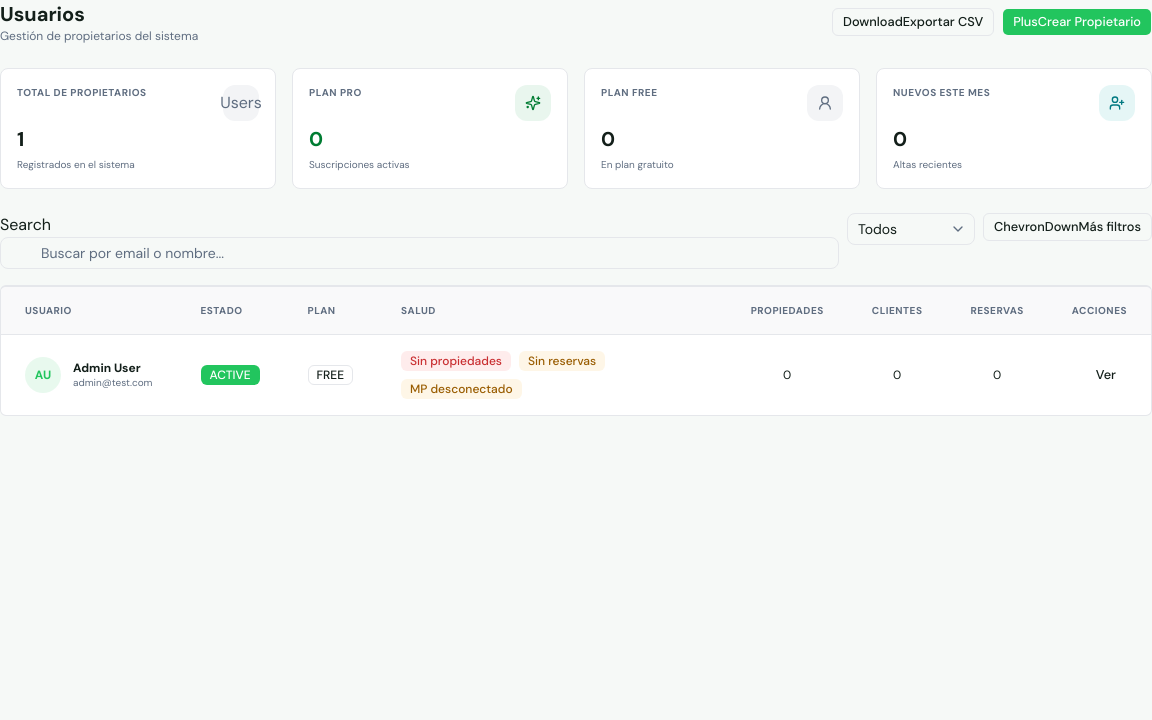
Test: AdminUsersClient › Crear propietario › el selector de plan muestra la etiqueta, no el enum
Click the button "Crear Propietario": x=1077, y=22 left=1002, top=8, right=1151, bottom=36
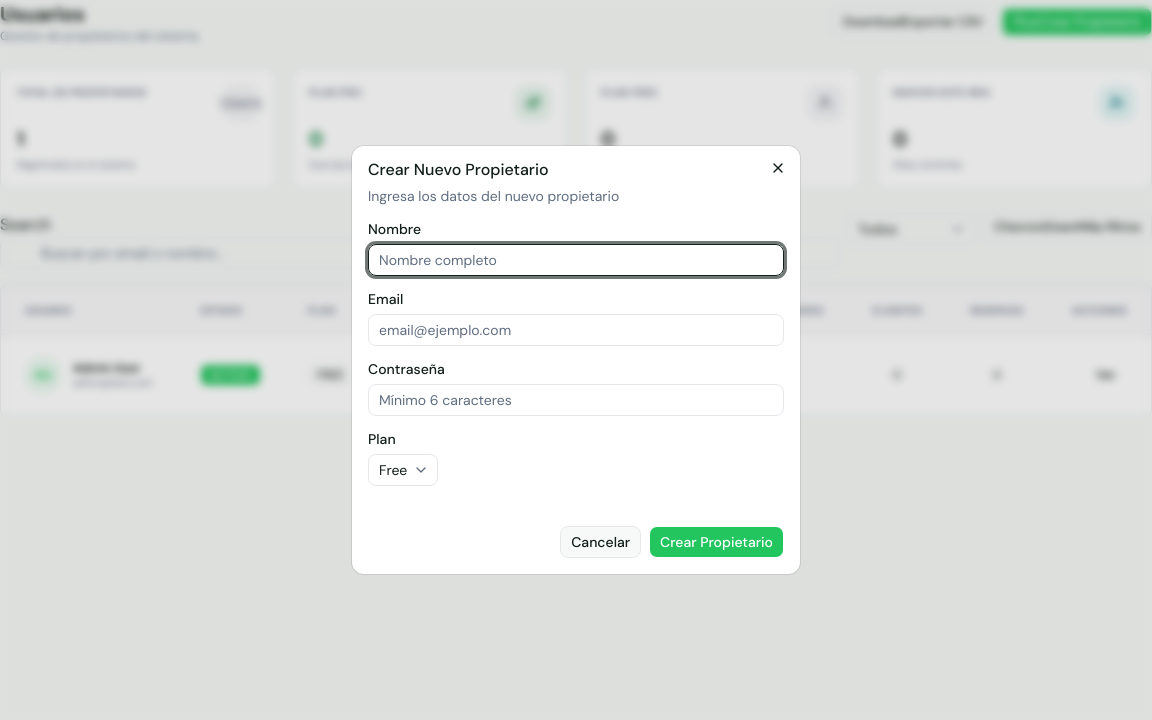
expect the dropdown labelled "Plan" does not show "FREE": met
expect the dropdown named "Plan" shows "Free": met, box left=368, top=454, right=438, bottom=486
